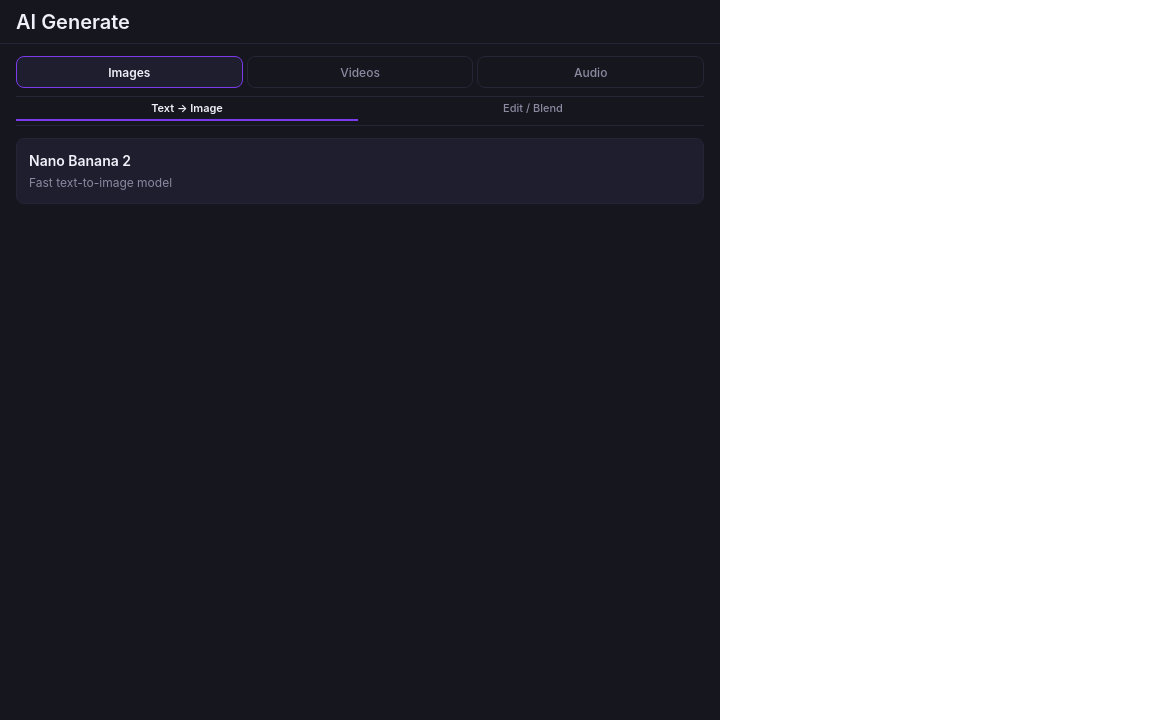
it: AiGenerationPanel / catalog › shows audio capability tabs and the TTS model when the audio group is selected
Expected: the text "Nano Banana 2" is shown, [29,151,131,171]
Click the tab "Audio" at [591, 72], box [477,56,704,88]
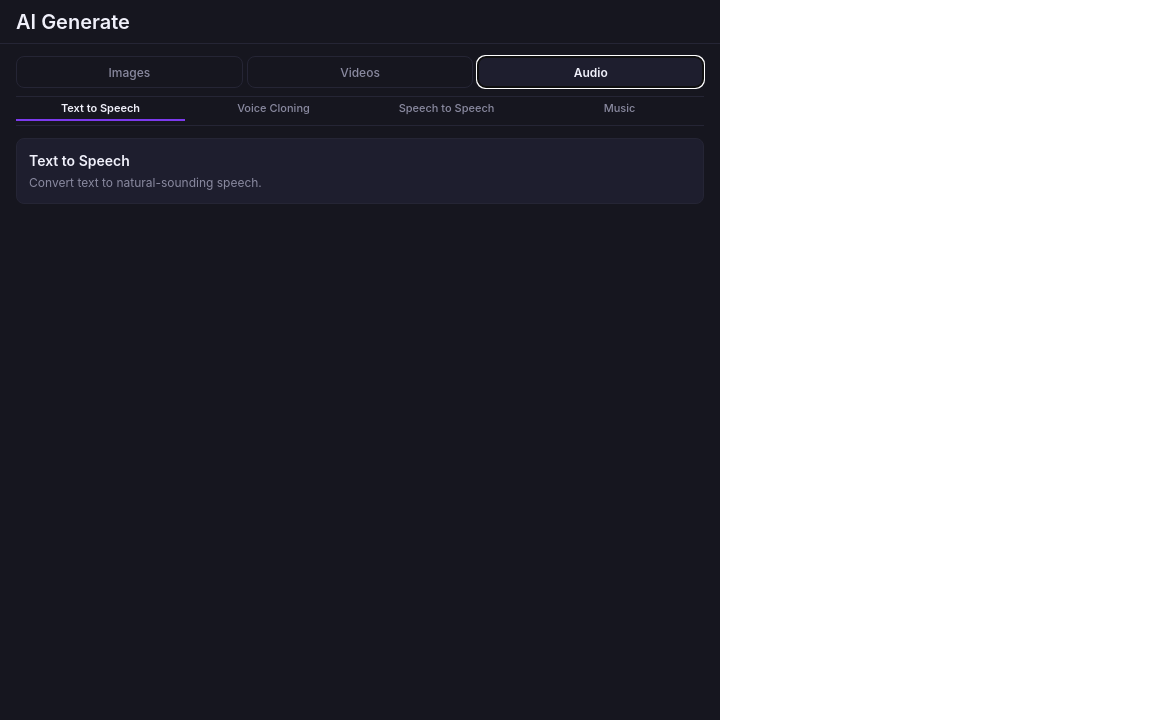
Now the tab "Text to Speech" is shown, box [16,97,185,121]
